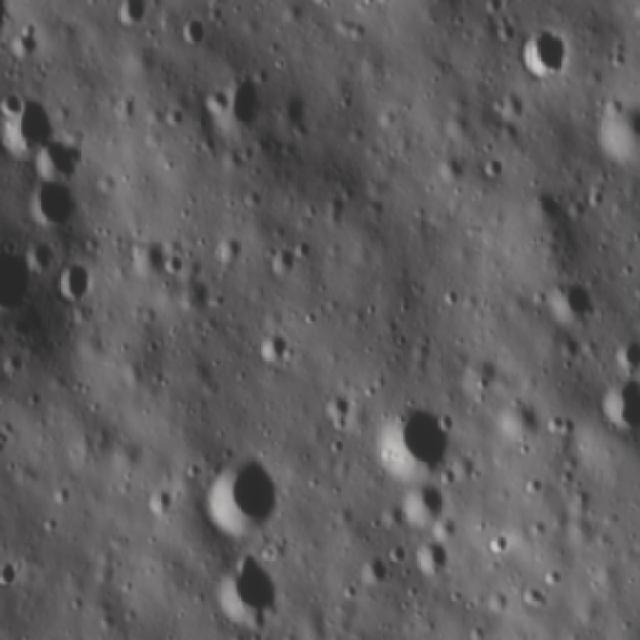crater: (207, 461, 287, 537), (383, 403, 448, 471), (0, 237, 43, 325), (217, 554, 275, 618), (217, 71, 268, 143), (23, 182, 99, 224), (0, 89, 52, 145), (516, 22, 559, 83), (597, 111, 640, 163), (54, 256, 98, 306), (26, 142, 92, 175), (548, 283, 594, 328), (271, 238, 309, 292), (401, 487, 450, 527), (246, 328, 294, 368), (404, 538, 445, 579), (479, 526, 512, 563), (178, 17, 214, 46), (1, 557, 22, 601), (118, 1, 142, 24)
